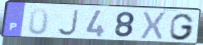0: (27, 7, 51, 37)
4: (85, 9, 106, 39)
8: (114, 11, 136, 39)
G: (168, 12, 196, 42)
J: (56, 9, 80, 37)
X: (139, 11, 168, 42)
